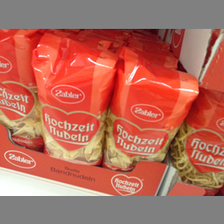pasta: (32, 33, 116, 167), (105, 59, 199, 168), (171, 89, 224, 193), (1, 30, 44, 150)
